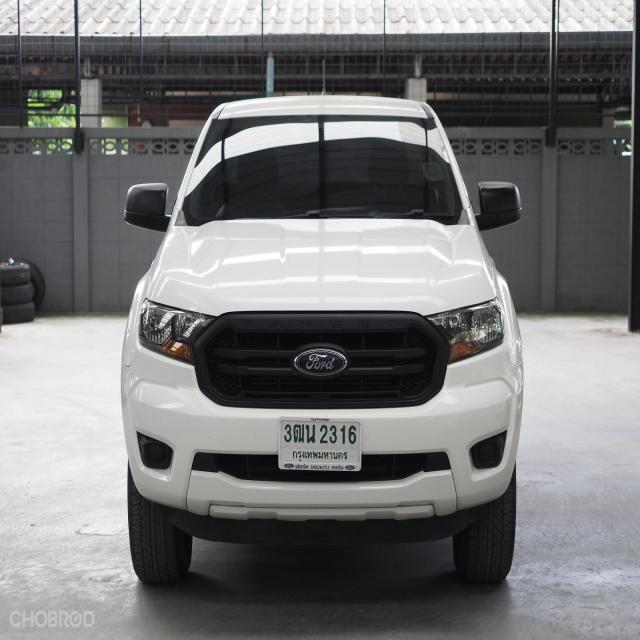license_plate: (275, 414, 364, 476)
